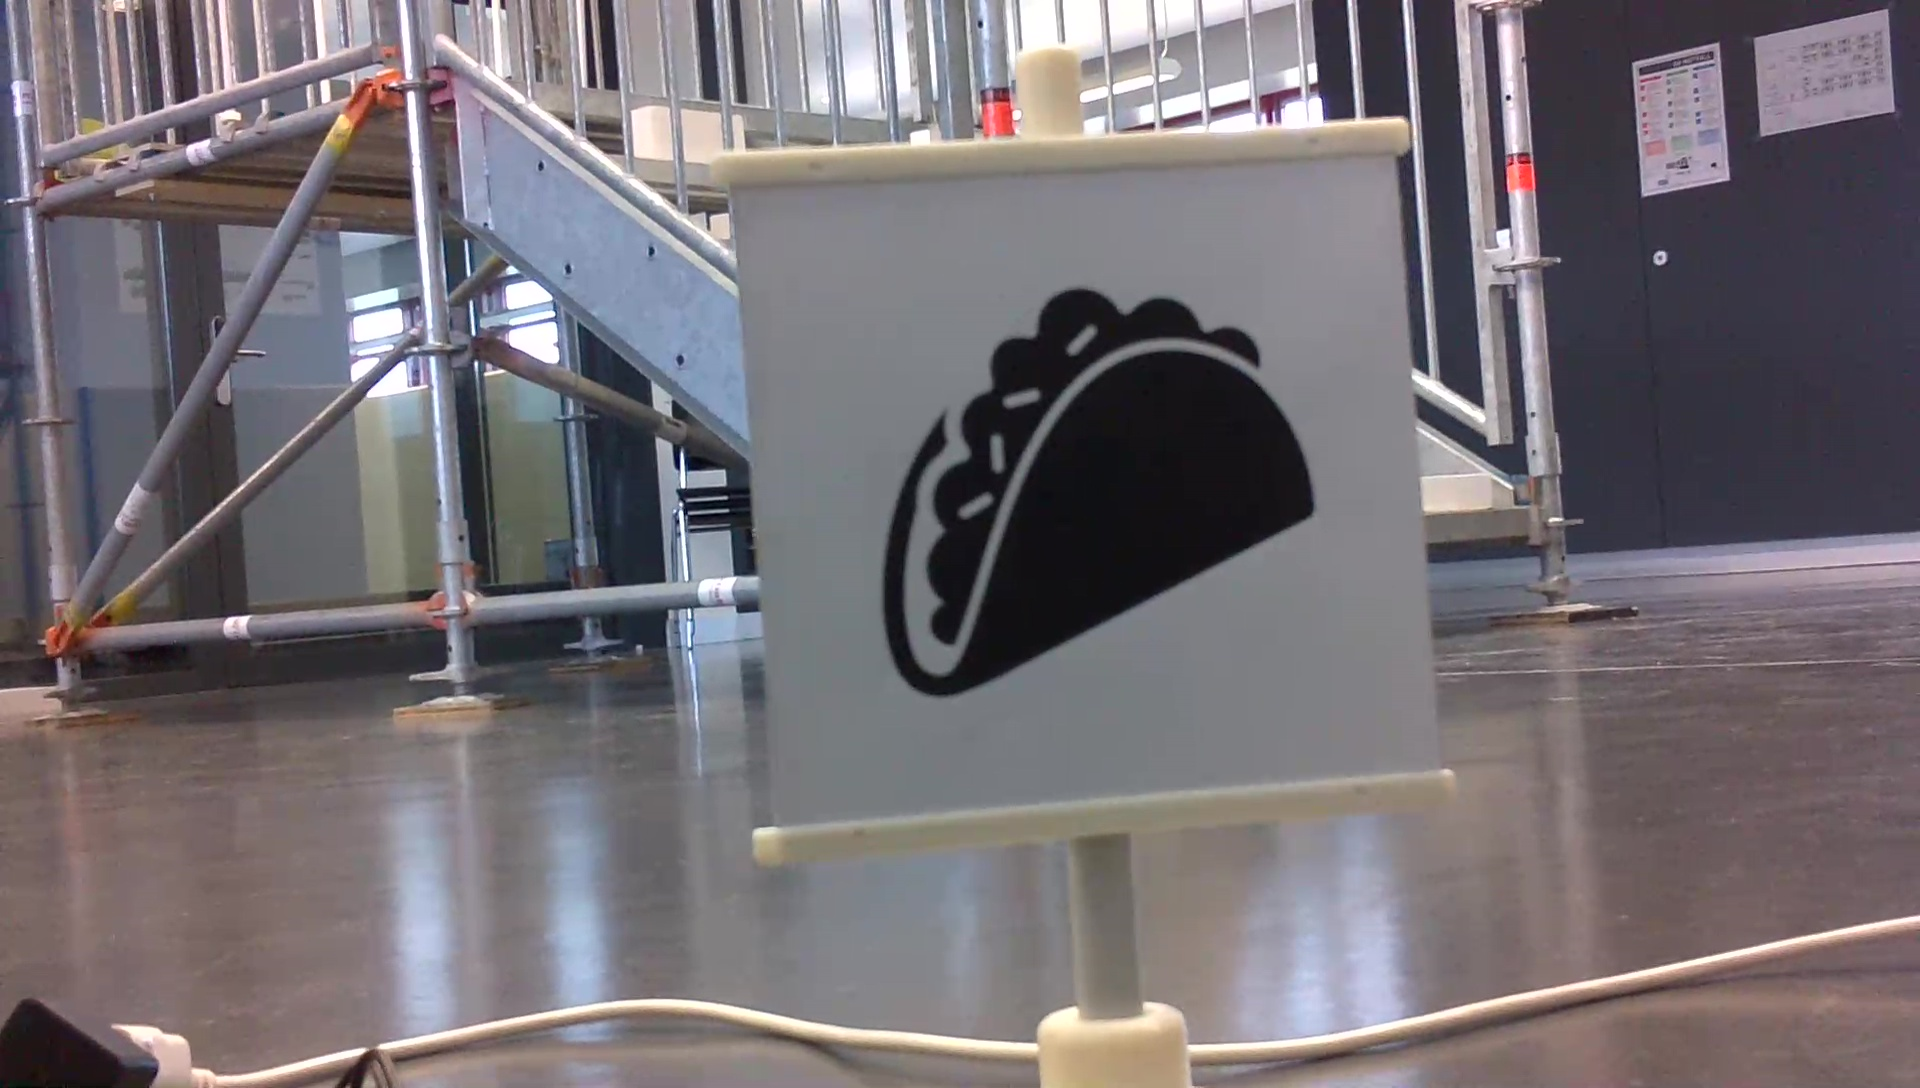taco: (870, 280, 1327, 706)
